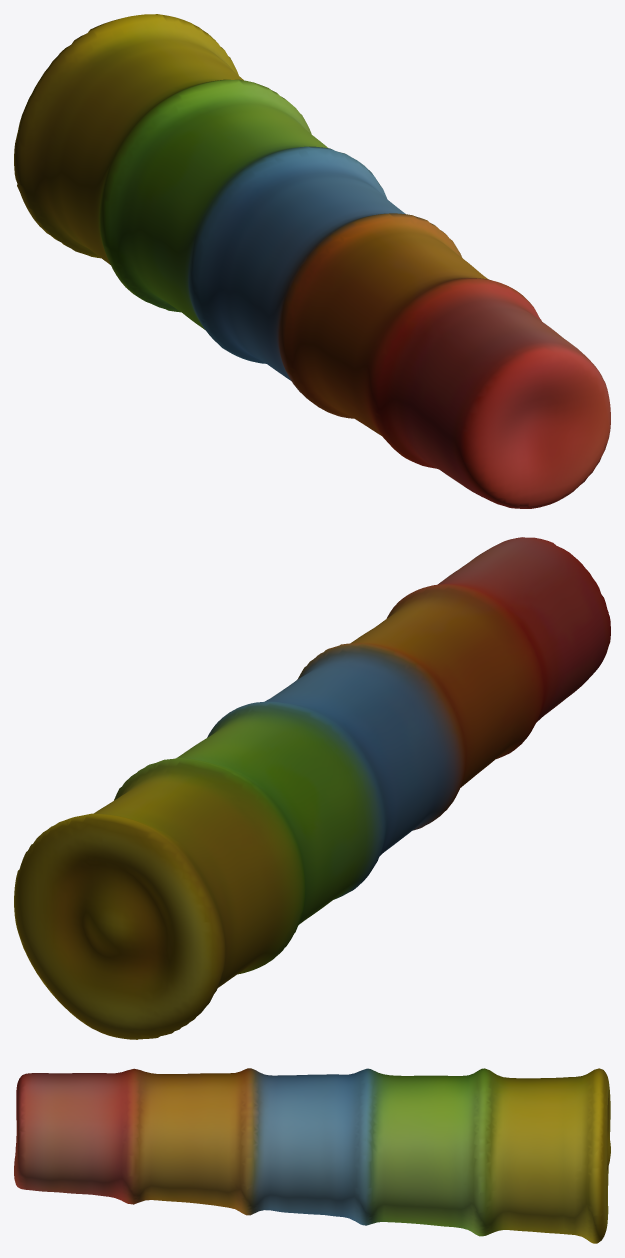
File: stucking_cups.glb
The picture shows the model from 3 angles, top to bottom: view 1: azimuth 30°, elevation 25°; view 2: azimuth 150°, elevation 25°; view 3: azimuth 270°, elevation 25°; orthographic projection. The views are drawn at different scales.
Size of the model in its own units: 0.2909 by 0.2928 by 0.9998.
